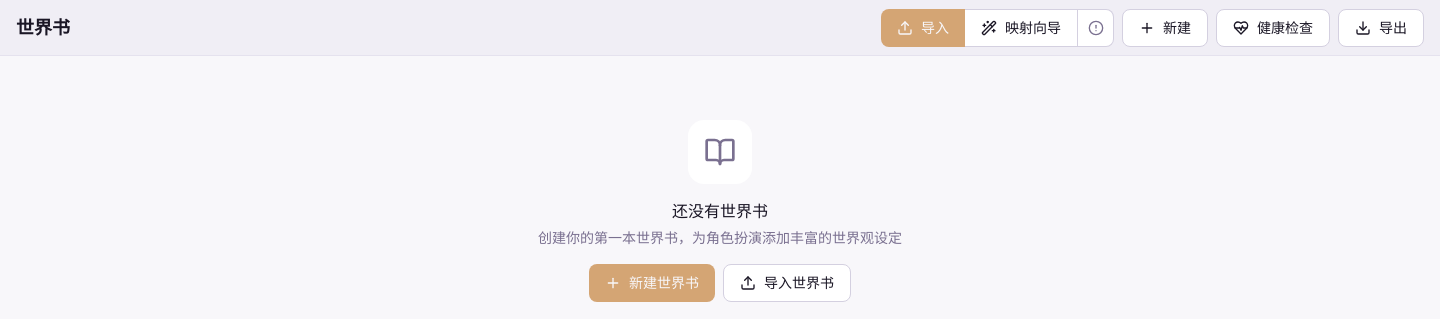
Test: LorebookPage › 圆圈感叹号可切换导入与映射向导说明
The width and height of the screenshot is (1440, 319).
Expected: the button "导入" is shown, [881, 8, 965, 46]
Expected: the button "映射向导" is shown, [965, 8, 1078, 46]
Click the button named "查看导入方式说明" at point(1096, 28), box [1078, 8, 1114, 46]
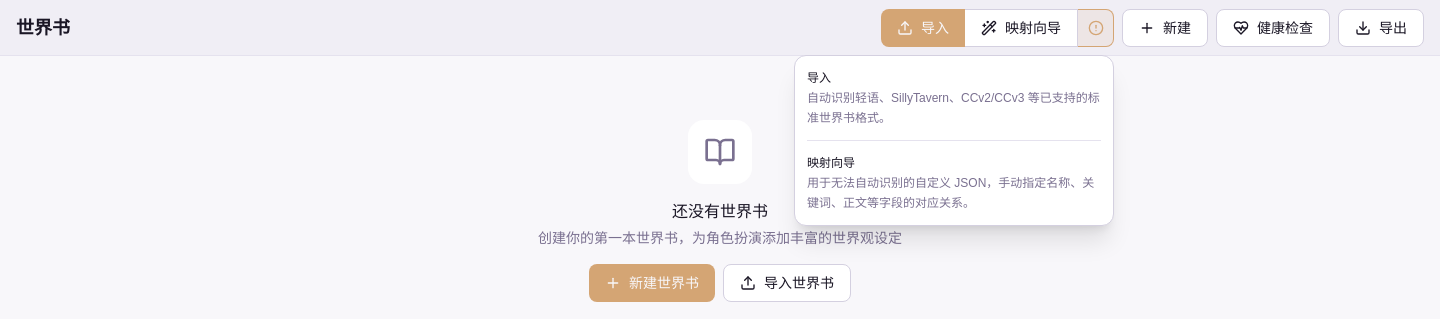
Expected: the button named "查看导入方式说明" is expanded
Expected: the text "自动识别轻语、SillyTavern、CCv2/CCv3 等已支持的标准世界书格式。" is shown, [807, 88, 1101, 128]
Expected: the text "用于无法自动识别的自定义 JSON，手动指定名称、关键词、正文等字段的对应关系。" is shown, [807, 172, 1101, 212]
Click the button named "查看导入方式说明" at point(1096, 28), box [1078, 8, 1114, 46]
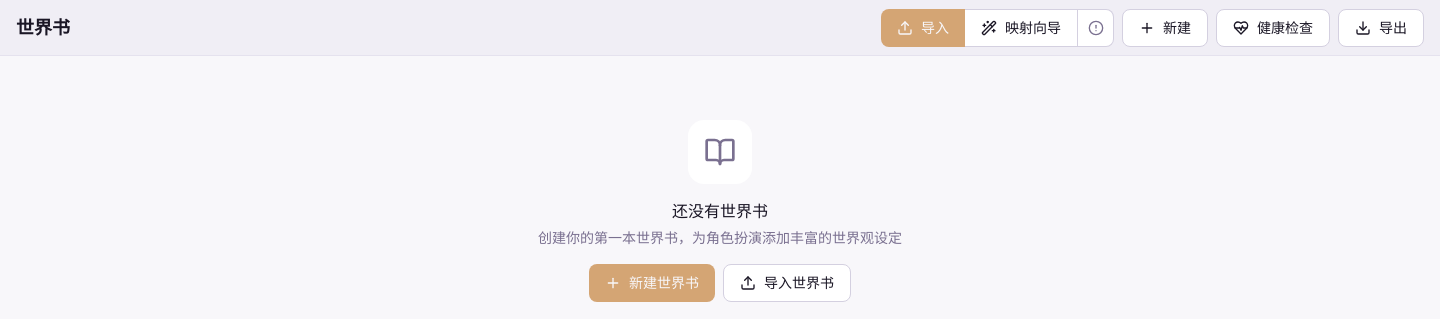
Expected: the button named "查看导入方式说明" is collapsed, [1078, 8, 1114, 46]
Expected: the text "自动识别轻语、SillyTavern" is gone
